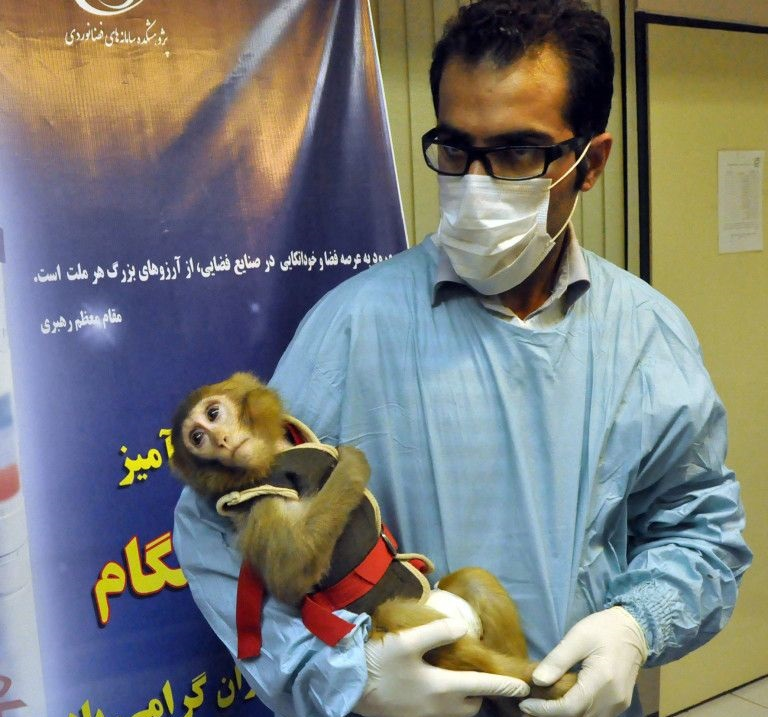face_mask: (432, 63, 561, 294)
